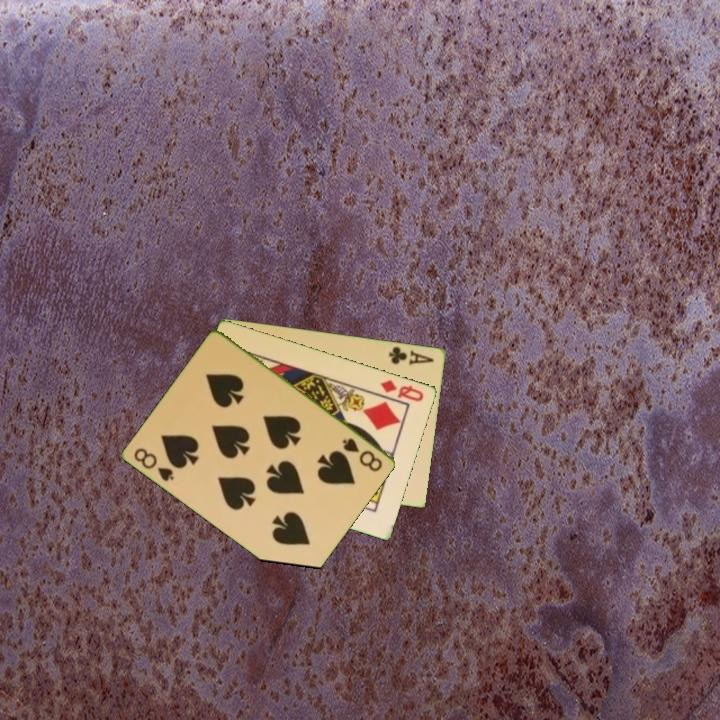8s: (339, 434, 386, 475), (131, 444, 178, 484)
Ac: (386, 343, 437, 368)
Qd: (377, 376, 427, 404)
